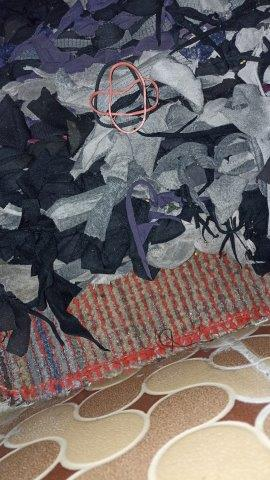karet: (89, 59, 160, 134)
